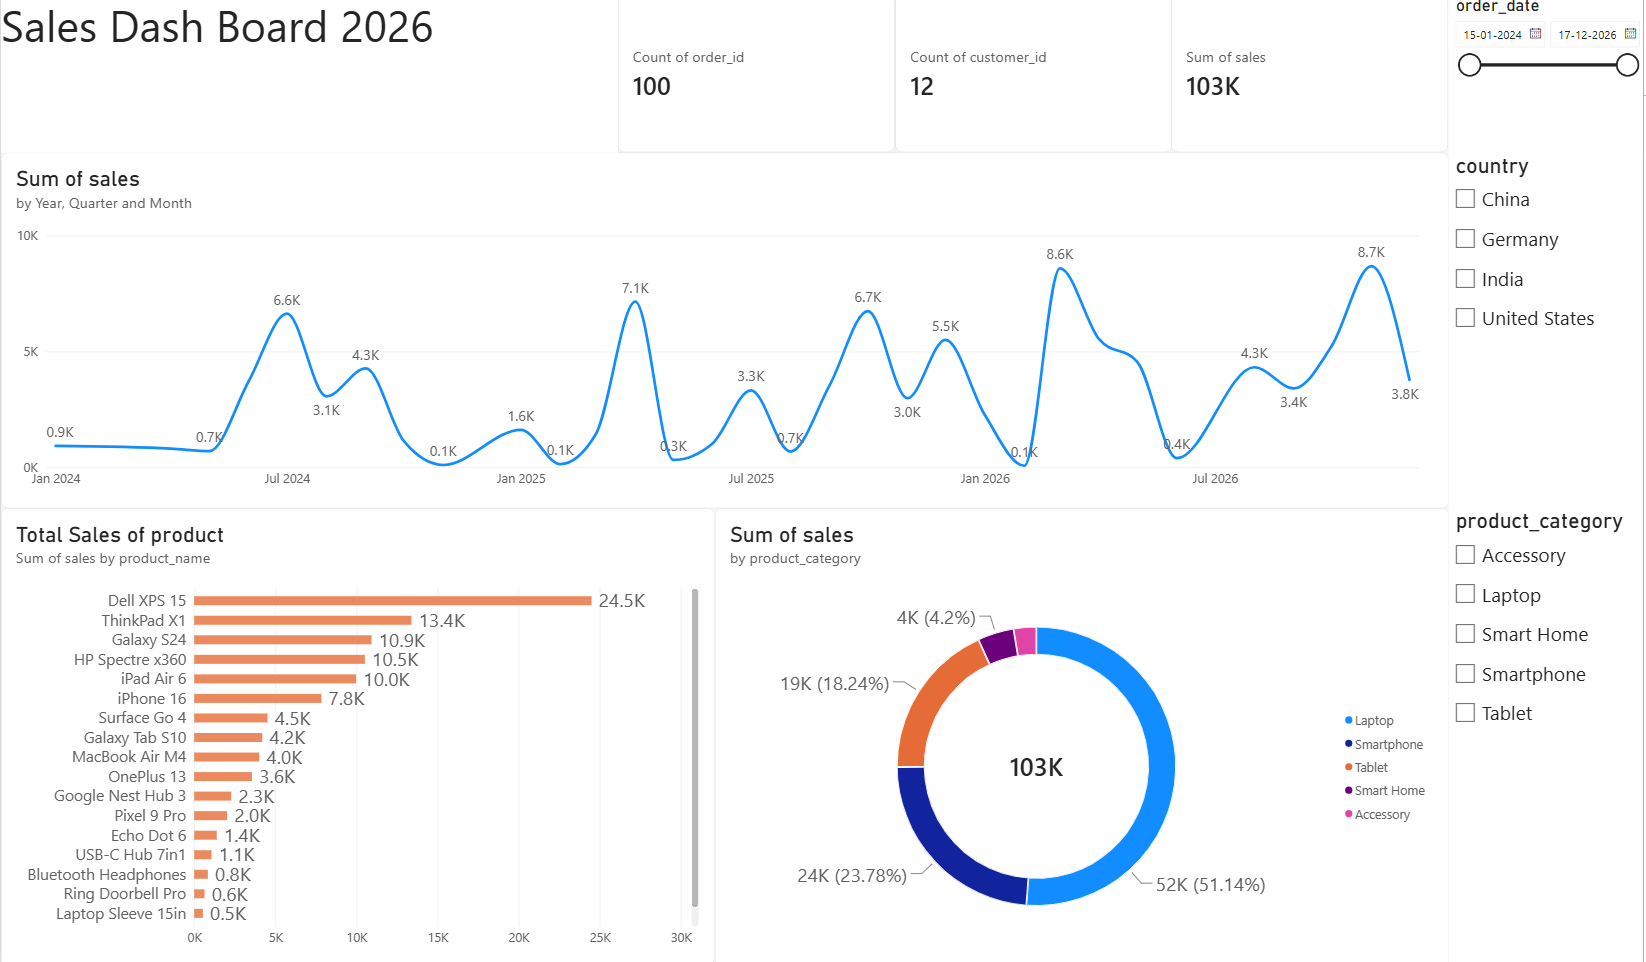

The page's visual inventory and layout, read from the dashboard file:
{"tool":"powerbi","page":{"name":"Page 1","canvas":[1920,1080],"ordinal":0},"visuals":[{"type":"barChart","title":"Total Sales of product","fields":{"Category":["orders.product_name"],"Y":["Sum(orders.sales)"]},"box":[0,570,792.6,509.3],"z":0},{"type":"cardVisual","fields":{"Data":["CountNonNull(orders.order_id)"]},"box":[685,0,308.3,175],"z":1000},{"type":"cardVisual","fields":{"Data":["Count(orders.customer_id)"]},"box":[993.3,0,308.3,175],"z":2000},{"type":"donutChart","fields":{"Category":["orders.product_category"],"Y":["Sum(orders.sales)"]},"box":[793.3,570,815,510],"z":3000},{"type":"cardVisual","fields":{"Data":["Sum(orders.sales)"]},"box":[1300,0,308.3,175],"z":4000},{"type":"lineChart","fields":{"Category":["orders.order_date.Variation.Date Hierarchy.Year","orders.order_date.Variation.Date Hierarchy.Quarter","orders.order_date.Variation.Date Hierarchy.Month","orders.order_date.Variation.Date Hierarchy.Day"],"Y":["Sum(orders.sales)"]},"box":[0,175,1608.3,395],"z":5000},{"type":"slicer","fields":{"Values":["customers.country"]},"box":[1608.3,175,215,395],"z":6000},{"type":"slicer","fields":{"Values":["orders.product_category"]},"box":[1608.3,570,215,510],"z":7000},{"type":"slicer","fields":{"Values":["orders.order_date"]},"box":[1608.3,0,215,175],"z":8000},{"type":"textbox","box":[0,0,685,175],"z":9000}]}

Visuals, with their boxes on the page's 1920x1080 design canvas (x1, y1, x2, y2). These are canvas units, not pixel positions in the 1646x962 screenshot, which may show the page scaled, cropped or inside an application window:
"Total Sales of product" barChart: (x1=0, y1=570, x2=793, y2=1079)
cardVisual - CountNonNull(orders.order_id): (x1=685, y1=0, x2=993, y2=175)
cardVisual - Count(orders.customer_id): (x1=993, y1=0, x2=1302, y2=175)
donutChart - orders.product_category x Sum(orders.sales): (x1=793, y1=570, x2=1608, y2=1080)
cardVisual - Sum(orders.sales): (x1=1300, y1=0, x2=1608, y2=175)
lineChart - orders.order_date.Variation.Date Hierarchy.Year x orders.order_date.Variation.Date Hierarchy.Quarter: (x1=0, y1=175, x2=1608, y2=570)
slicer - customers.country: (x1=1608, y1=175, x2=1823, y2=570)
slicer - orders.product_category: (x1=1608, y1=570, x2=1823, y2=1080)
slicer - orders.order_date: (x1=1608, y1=0, x2=1823, y2=175)
textbox: (x1=0, y1=0, x2=685, y2=175)
